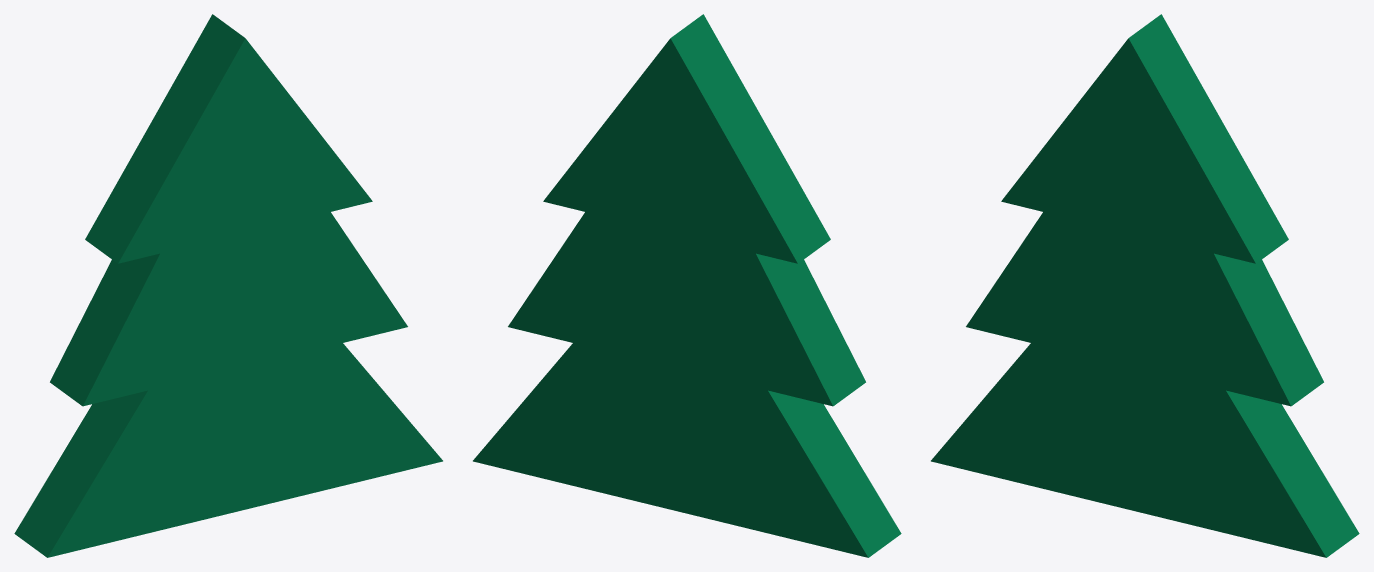
File: christmas__MiniTree.glb
3 renders of one model, left to right at view 1: azimuth 30°, elevation 25°; view 2: azimuth 150°, elevation 25°; view 3: azimuth 330°, elevation 25°, orthographic.
Visible parts, largest first — view 1: MiniTree; view 2: MiniTree; view 3: MiniTree.
Boxes of the visible parts, x1,y1,x2,y2 form: MiniTree: [14, 14, 442, 557]; MiniTree: [473, 14, 901, 557]; MiniTree: [931, 14, 1359, 557].
Bounding box in the file's own units: 0.7331 × 0.8336 × 0.1059.
Materials: 1 (1 with a texture image).
